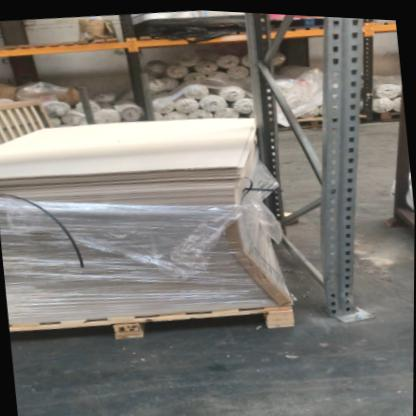vertical_damage: (321, 244, 379, 327)
